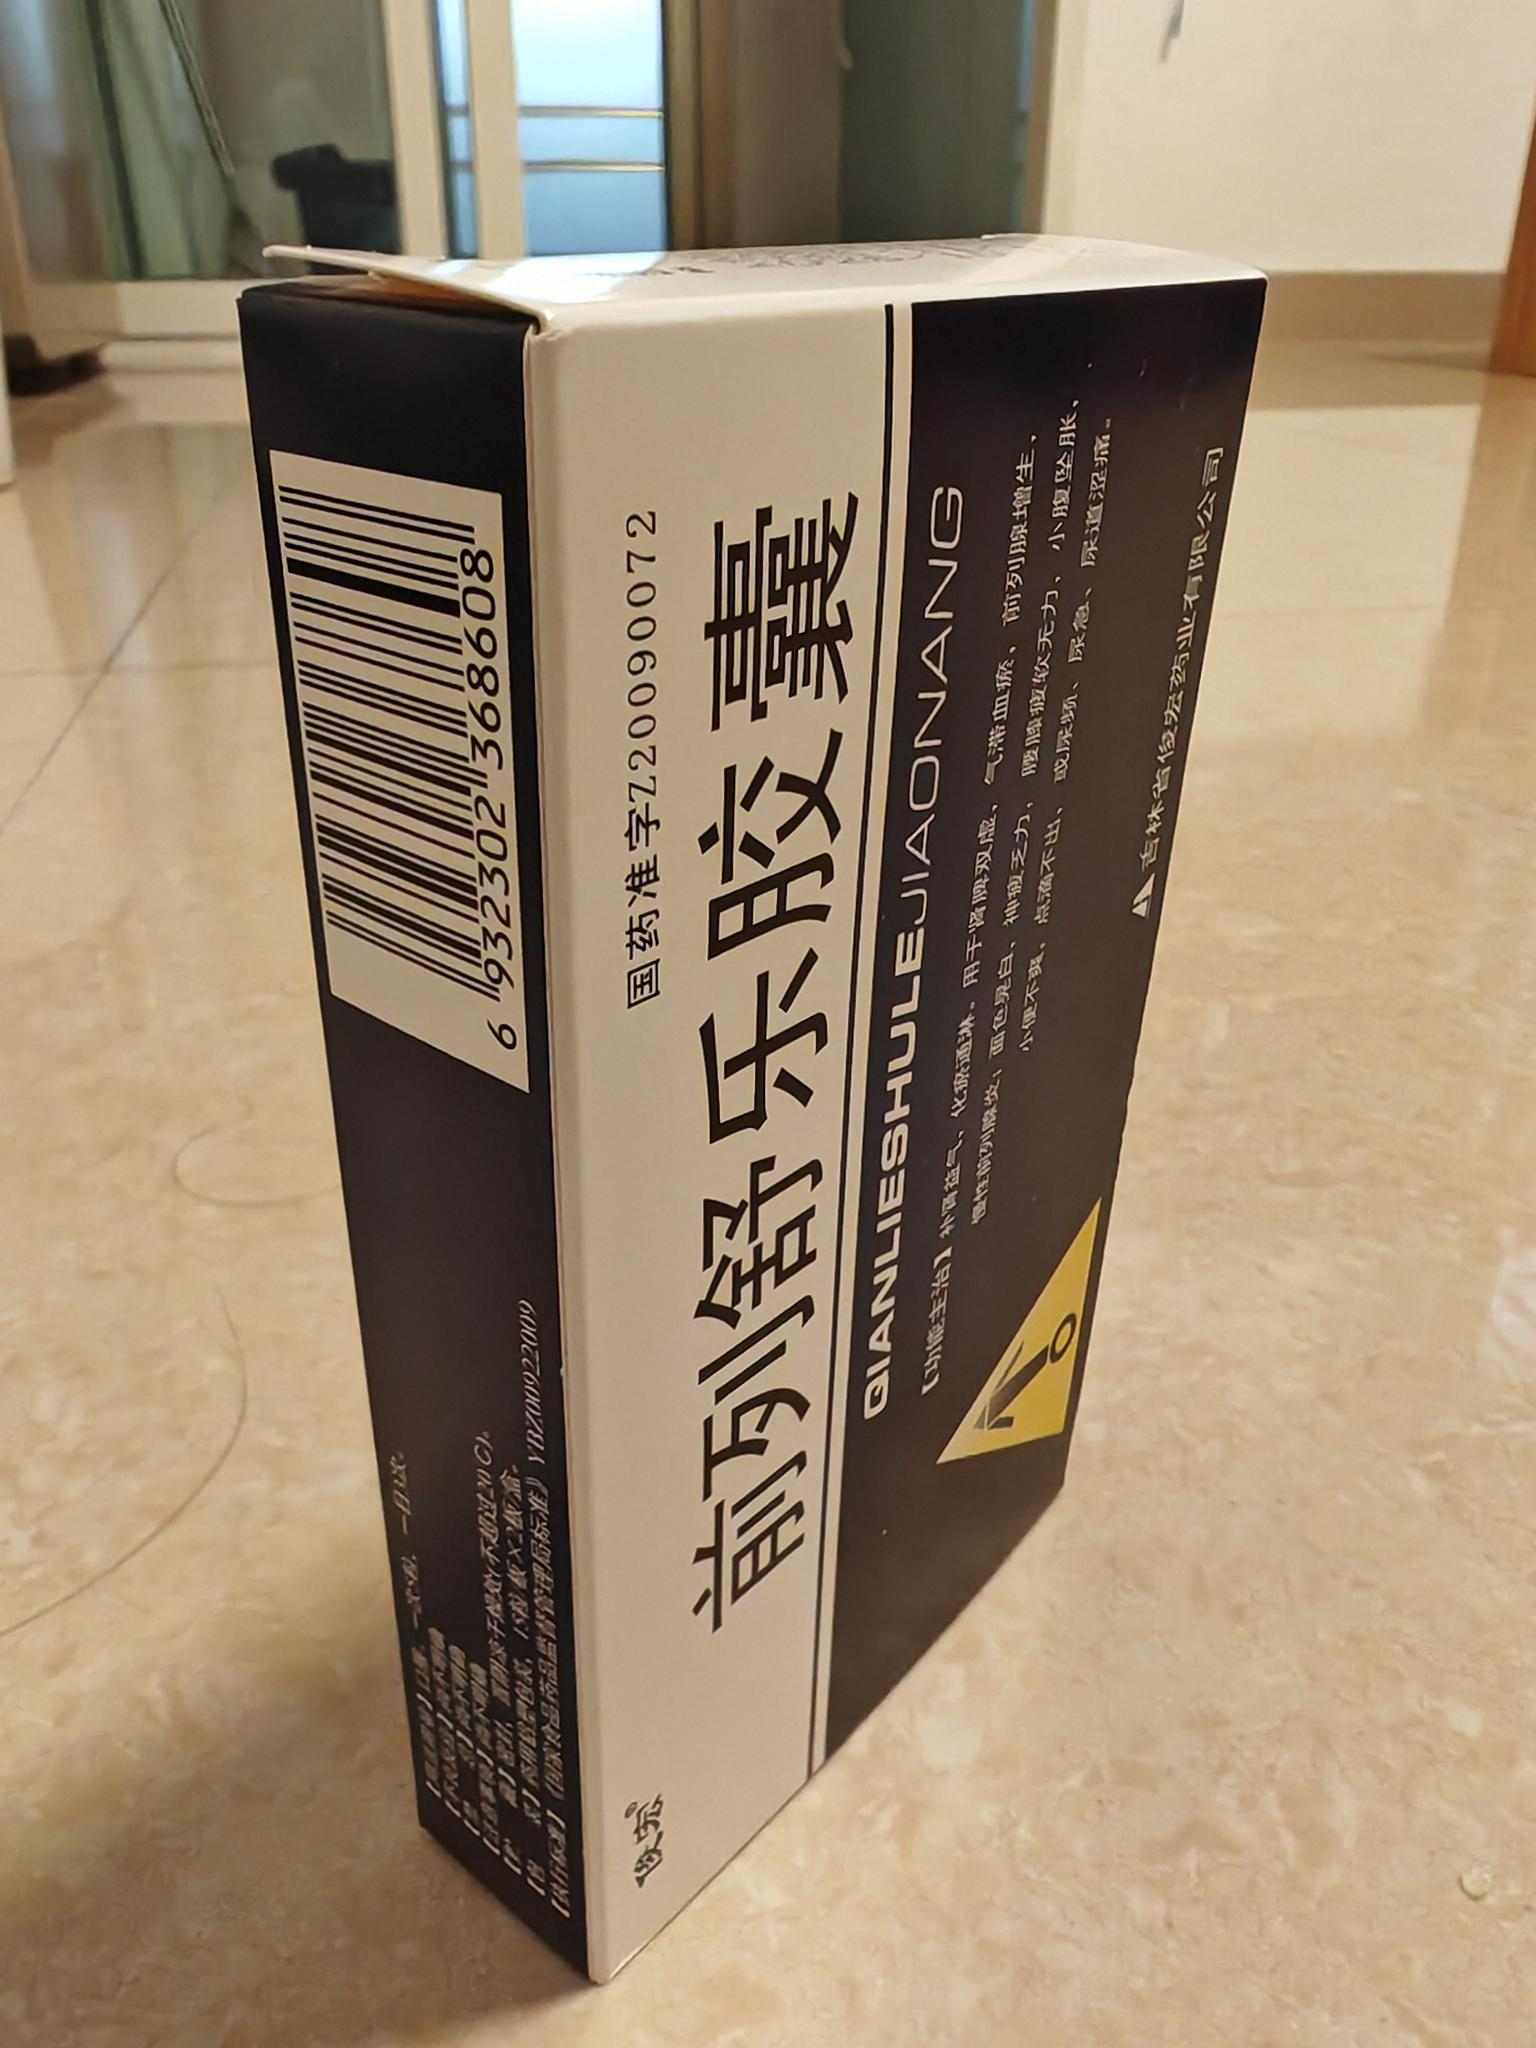Medicine2: (215, 216, 1296, 2013)
